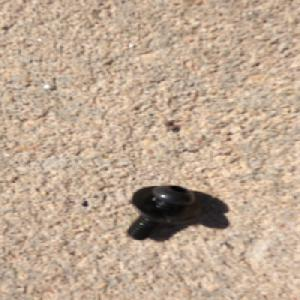BoltWasher: (125, 181, 205, 240)
